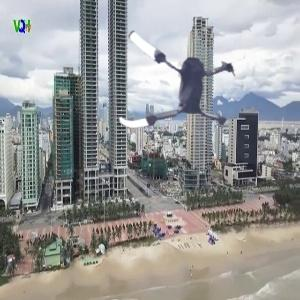drone: (106, 9, 253, 156)
